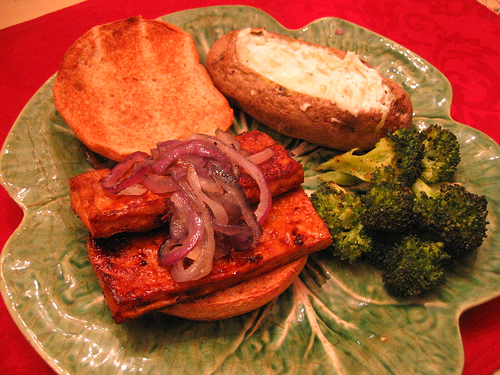broccoli: (314, 128, 424, 188), (369, 231, 453, 301), (411, 177, 488, 252), (308, 179, 372, 267), (417, 125, 463, 184), (359, 184, 414, 233)
